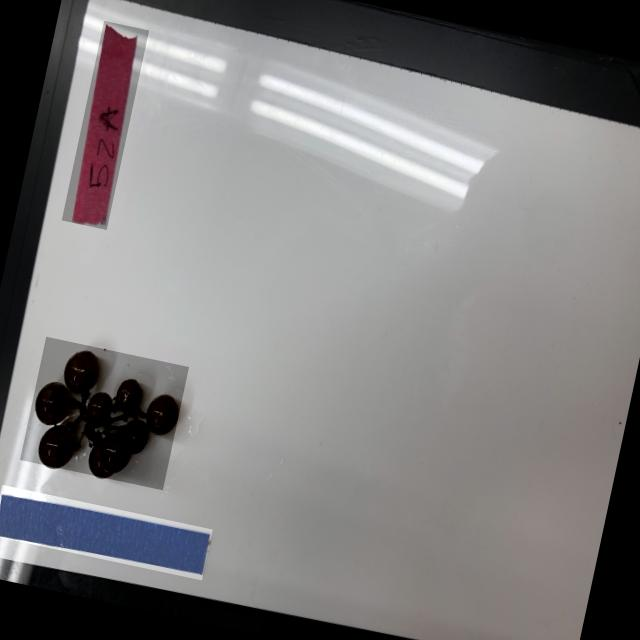grape_cluster: (20, 335, 188, 489)
index: (62, 20, 148, 228)
measure_label: (0, 483, 212, 580)
